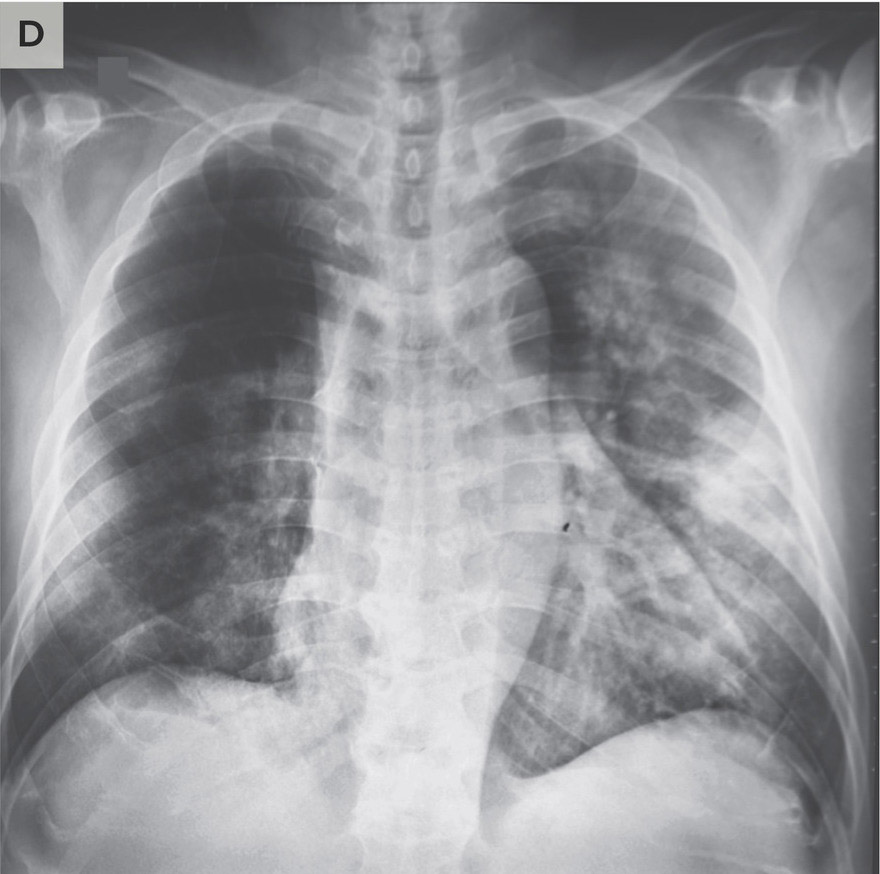Severe: (1, 110, 361, 804), (502, 108, 846, 830)
